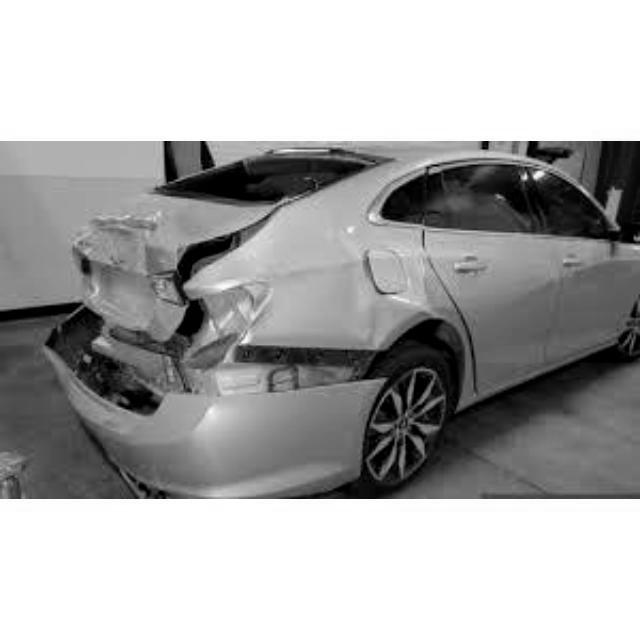quaterpanel-dent: (231, 216, 429, 380)
rear-bumper-dent: (60, 359, 386, 495)
